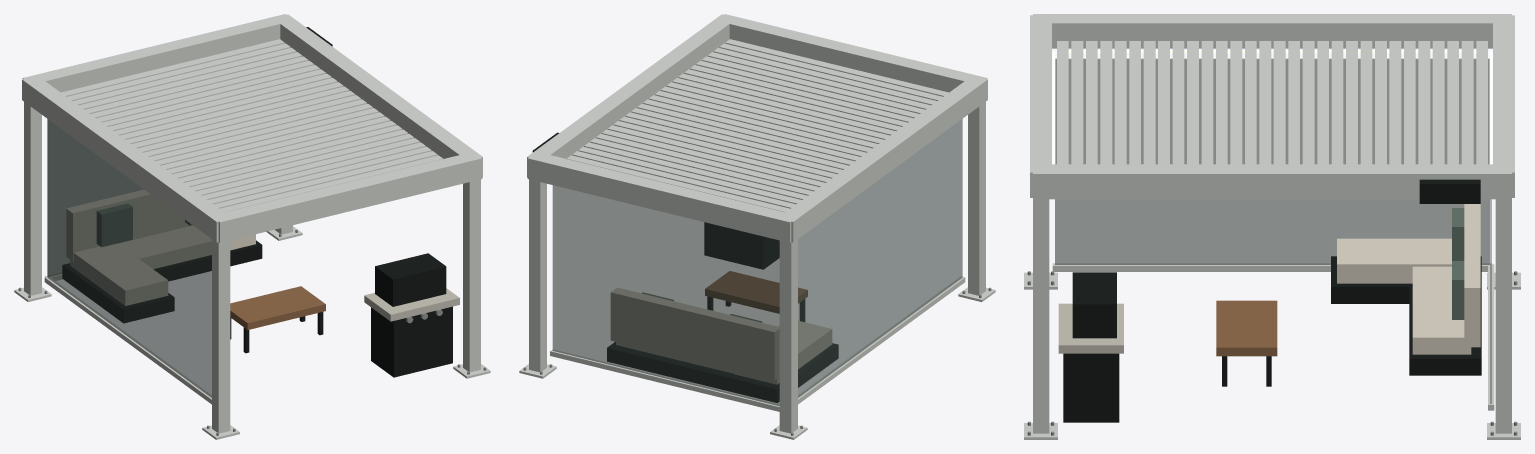
Rendered from coordinatez-axis-10x13-cloud.glb.
The picture shows the model from 3 angles, left to right: view 1: azimuth 30°, elevation 25°; view 2: azimuth 150°, elevation 25°; view 3: azimuth 270°, elevation 25°; orthographic projection. The views are drawn at different scales.
Visible parts, largest first — view 1: Left motorized wall, Structural post (×3), Front motor beam, Left beam, Rear drainage beam, Right beam, Rear motorized wall, BBQ cabinet, Chaise cushion, Sofa back, BBQ hood, Sofa seat (+34 smaller); view 2: Rear motorized wall, Left motorized wall, Structural post (×3), Sofa back, Rear drainage beam, Left beam, Front motor beam, Right beam, Sofa base, BBQ cabinet, Coffee table top, Rear wall bottom rail (+31 smaller); view 3: Left motorized wall, Right beam, Left beam, Structural post (×2), Chaise cushion, Sofa seat, BBQ cabinet, Coffee table top, Front motor beam, Rear drainage beam, BBQ hood, Left wall bottom rail (+38 smaller).
Boxes of the visible parts, left/top/right/bottom form: Left motorized wall: left=47, top=119, right=211, bottom=397; Structural post (×3): left=24, top=102, right=480, bottom=433; Front motor beam: left=211, top=153, right=482, bottom=242; Left beam: left=22, top=79, right=230, bottom=242; Rear drainage beam: left=22, top=14, right=293, bottom=92; Right beam: left=275, top=14, right=482, bottom=177; Rear motorized wall: left=48, top=120, right=142, bottom=276; BBQ cabinet: left=371, top=306, right=452, bottom=377; Chaise cushion: left=70, top=243, right=167, bottom=305; Sofa back: left=66, top=190, right=189, bottom=260; BBQ hood: left=375, top=253, right=446, bottom=306; Sofa seat: left=119, top=225, right=255, bottom=268; Rear motorized wall: left=552, top=185, right=779, bottom=405; Left motorized wall: left=798, top=119, right=962, bottom=397; Structural post (×3): left=529, top=102, right=985, bottom=433; Sofa back: left=611, top=288, right=779, bottom=380; Rear drainage beam: left=527, top=154, right=798, bottom=242; Left beam: left=779, top=79, right=987, bottom=242; Front motor beam: left=716, top=14, right=987, bottom=92; Right beam: left=527, top=14, right=733, bottom=177; Sofa base: left=607, top=342, right=799, bottom=402; BBQ cabinet: left=704, top=222, right=779, bottom=269; Coffee table top: left=705, top=271, right=807, bottom=313; Rear wall bottom rail: left=550, top=349, right=779, bottom=411; Left motorized wall: left=1055, top=58, right=1489, bottom=264; Right beam: left=1033, top=164, right=1511, bottom=199; Left beam: left=1033, top=14, right=1511, bottom=48; Structural post (×2): left=1033, top=199, right=1511, bottom=433; Chaise cushion: left=1337, top=238, right=1451, bottom=283; Sofa seat: left=1412, top=266, right=1471, bottom=354; BBQ cabinet: left=1063, top=353, right=1119, bottom=422; Coffee table top: left=1216, top=300, right=1277, bottom=356; Front motor beam: left=1030, top=15, right=1051, bottom=197; Rear drainage beam: left=1493, top=15, right=1514, bottom=197; BBQ hood: left=1072, top=272, right=1116, bottom=338; Left wall bottom rail: left=1052, top=263, right=1492, bottom=271.
Bounding box in the file's own units: 3.37 × 2.49 × 4.25.
